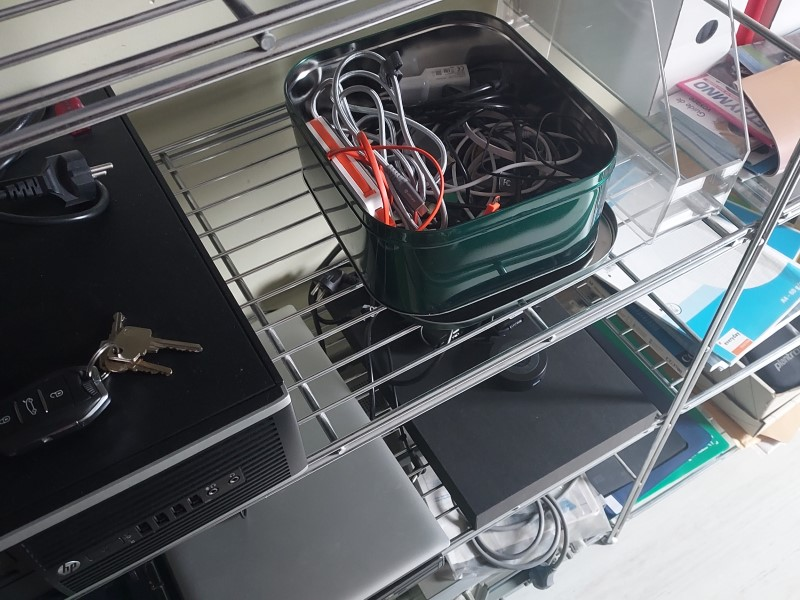carkey: (6, 361, 111, 446)
key: (101, 312, 204, 379)
